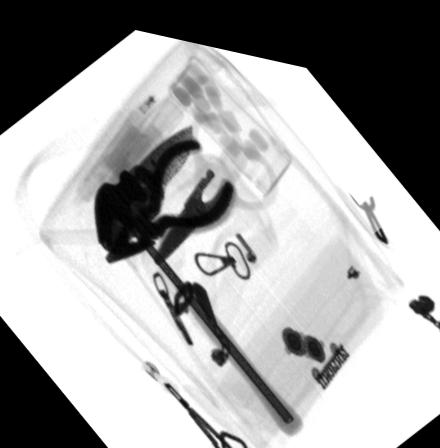Hammer: (92, 159, 302, 424)
Knife: (93, 114, 194, 247)
Pliers: (104, 124, 238, 259)
Scissors: (150, 99, 281, 257)
